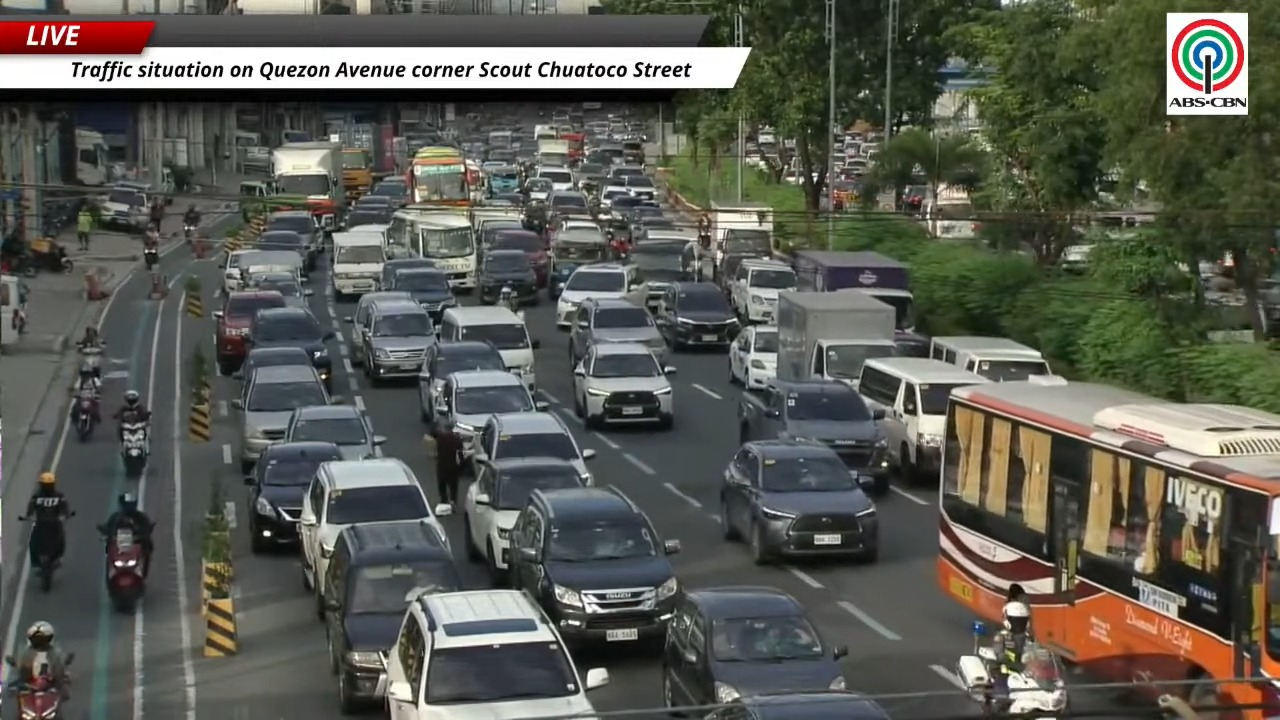bus: (937, 381, 1279, 718), (406, 146, 475, 206)
car: (388, 590, 608, 719), (508, 487, 679, 644), (325, 521, 463, 713), (300, 458, 448, 619), (662, 586, 847, 707), (720, 440, 878, 563), (738, 378, 891, 494), (463, 457, 583, 581), (244, 442, 341, 553), (232, 366, 332, 471), (428, 370, 548, 457), (473, 412, 595, 484), (573, 343, 674, 429), (439, 306, 539, 392), (418, 341, 506, 421), (352, 300, 436, 383), (569, 298, 667, 366), (247, 307, 335, 378), (213, 291, 286, 374), (656, 282, 740, 350), (284, 404, 385, 459), (706, 690, 889, 719), (343, 290, 412, 366), (556, 263, 635, 328), (629, 237, 697, 309), (729, 259, 797, 323), (386, 267, 455, 323), (485, 230, 549, 286), (264, 210, 322, 268), (478, 248, 538, 304), (728, 325, 777, 389), (254, 231, 314, 273), (99, 184, 149, 233), (233, 347, 312, 378), (628, 207, 695, 242), (247, 272, 311, 307), (378, 257, 437, 290), (221, 249, 255, 296), (477, 217, 523, 248), (368, 178, 410, 207), (342, 207, 393, 230), (548, 190, 588, 215), (557, 218, 603, 239), (536, 166, 573, 191), (626, 203, 670, 224), (599, 180, 631, 208), (624, 174, 655, 199), (622, 139, 645, 172), (523, 178, 552, 201), (609, 164, 644, 181), (354, 194, 392, 208)
motorcycle: (956, 621, 1067, 719), (106, 527, 145, 612), (12, 654, 62, 719), (29, 523, 59, 591), (121, 422, 148, 479), (74, 391, 97, 442), (78, 341, 103, 379), (143, 248, 159, 271), (184, 222, 196, 242)
truck: (776, 291, 896, 384), (791, 249, 914, 330), (272, 141, 344, 232), (708, 202, 775, 286), (709, 202, 773, 249), (75, 127, 109, 186), (341, 147, 372, 202), (537, 138, 570, 163)
